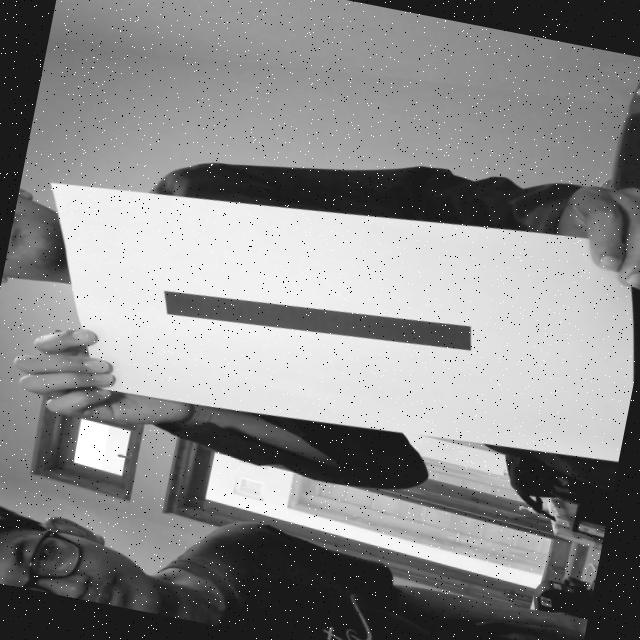i: (153, 250, 502, 384)
